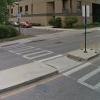Crosswalk: (12, 38, 86, 82)
